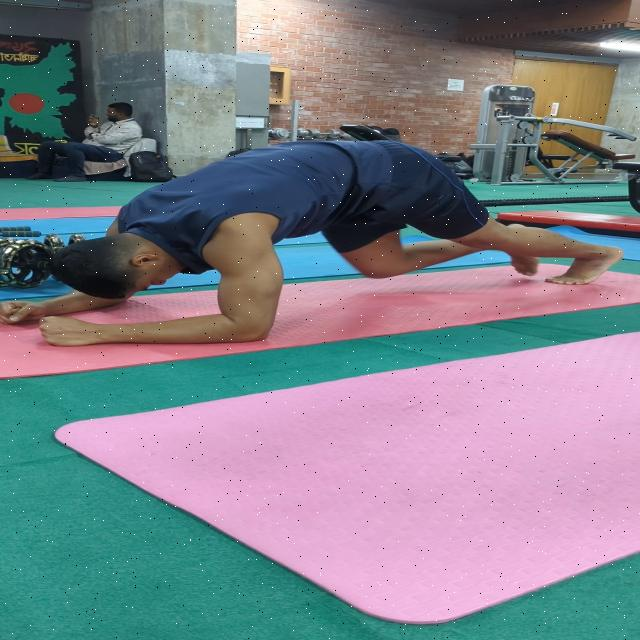Normal_MountainClimbers: (0, 143, 622, 360)
